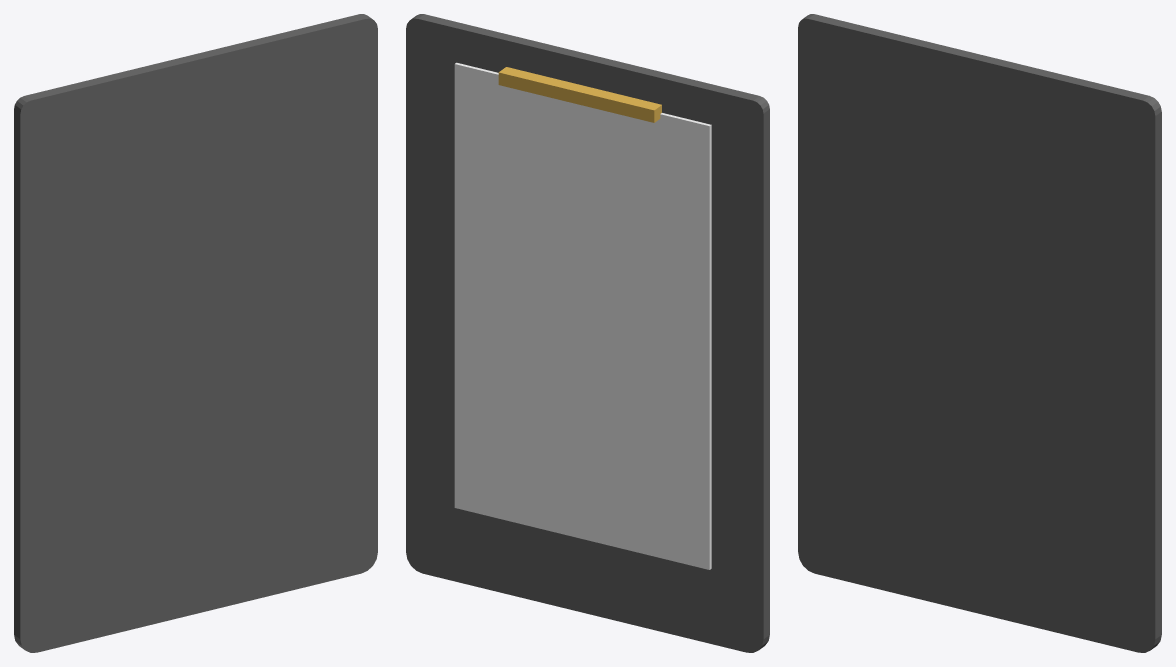
The model's file is ClipBoard.fbx.
3 renders of one model, left to right at view 1: azimuth 30°, elevation 25°; view 2: azimuth 150°, elevation 25°; view 3: azimuth 330°, elevation 25°, orthographic.
Parts seen in each view (by area): view 1: Body; view 2: Paper, Body, Head; view 3: Body.
Boxes of the visible parts, x1=… form: Body: x1=14, y1=14, x2=377, y2=652; Paper: x1=454, y1=62, x2=711, y2=569; Body: x1=406, y1=14, x2=769, y2=652; Head: x1=498, y1=67, x2=661, y2=122; Body: x1=798, y1=14, x2=1161, y2=652.
Bounding box in the file's own units: 88.39 × 131 × 6.07.
